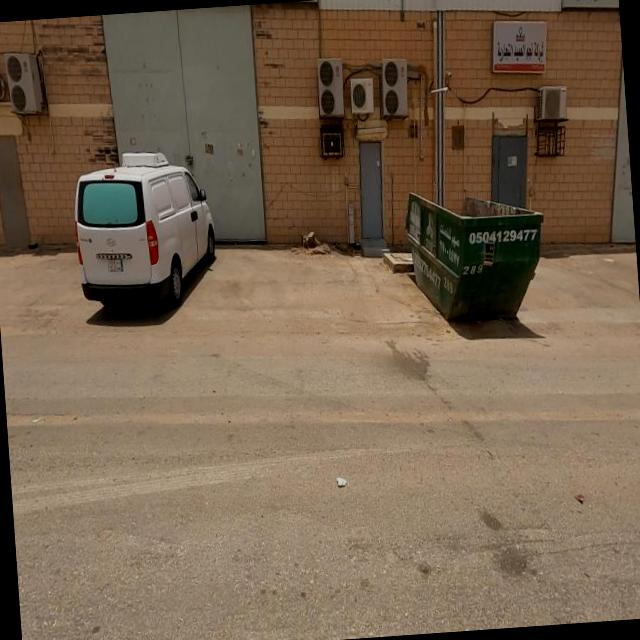debris: (316, 445, 363, 508)
